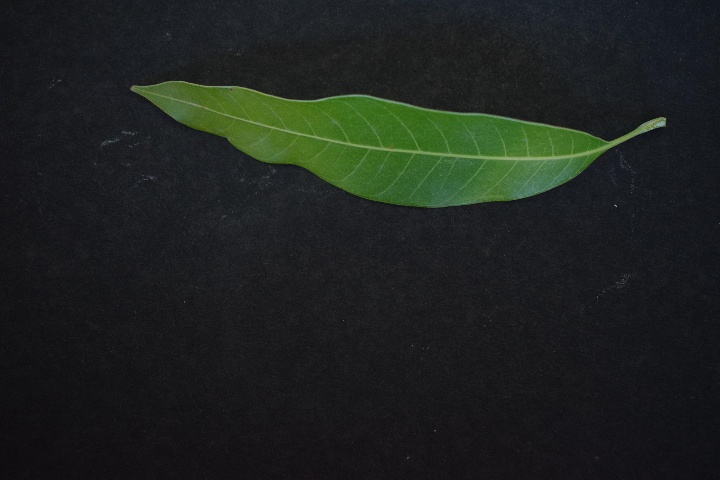healthy: (127, 66, 612, 226)
